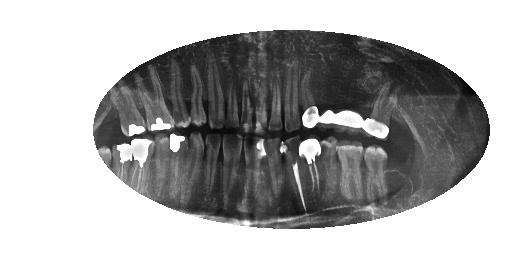i10decay: (201, 131, 224, 200)
i11chipped: (184, 130, 206, 203)
i12chipped: (165, 131, 190, 198)
i13healthy: (154, 132, 170, 198)
i14healthy: (130, 137, 156, 193)
i15healthy: (109, 142, 133, 183)
i16healthy: (96, 144, 113, 168)
i1loss: (387, 150, 419, 196)
i2heallthy: (363, 144, 390, 206)
i3chipped: (335, 135, 367, 206)
i4heallthy: (319, 134, 338, 196)
i5healthy: (297, 135, 326, 198)
i6healthy: (281, 134, 308, 215)
i7healthy: (263, 133, 285, 201)
i8decay: (242, 133, 268, 203)
i9decay: (220, 131, 246, 210)
u10decay: (224, 68, 242, 132)
u11healthy: (203, 50, 228, 133)
u12chipped: (183, 55, 209, 128)
u13chipped: (164, 52, 191, 129)
u14healthy: (131, 64, 178, 134)
u15healthy: (108, 79, 150, 137)
u16loss: (99, 102, 122, 137)
u1loss: (390, 95, 416, 140)
u2healthy: (363, 75, 404, 142)
u3loss: (335, 73, 367, 135)
u4loss: (314, 67, 339, 131)
u5healthy: (297, 61, 322, 131)
u6healthy: (283, 53, 302, 132)
u7healthy: (267, 63, 282, 131)
u8healthy: (253, 58, 270, 134)
u9decay: (240, 73, 255, 134)
